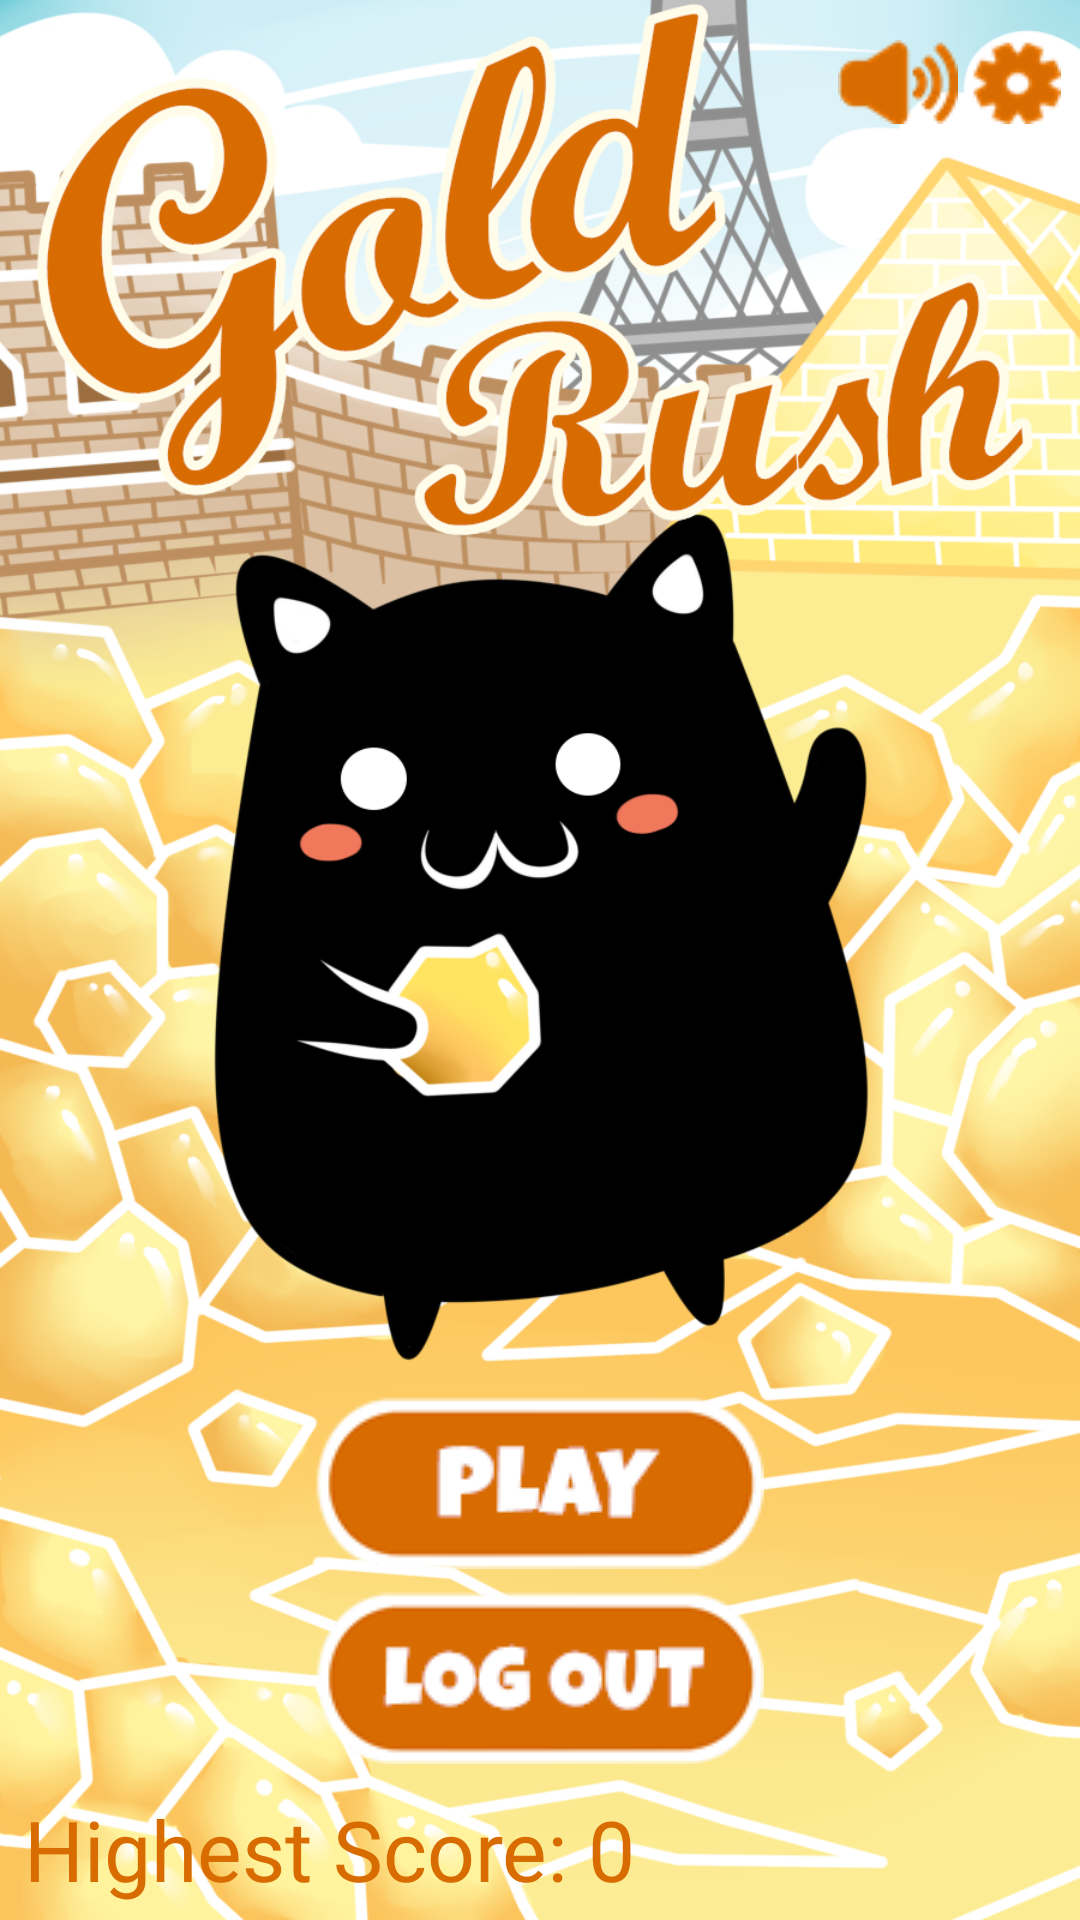

Screen size 1080px x 1920px. Icon name, then its center in pixels as (x,y):
setting: (1017,83)
sound: (898,82)
